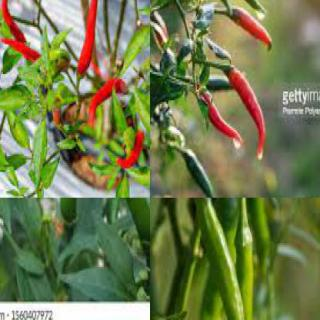green_chilli: (183, 198, 252, 319), (217, 224, 258, 319), (92, 198, 149, 250), (181, 151, 214, 197), (170, 0, 234, 18), (5, 110, 31, 153), (0, 89, 32, 107), (113, 178, 132, 197)
